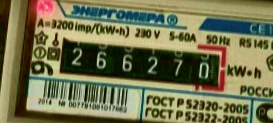0: (194, 58, 210, 79)
2: (144, 53, 159, 74), (68, 44, 82, 66)
6: (118, 50, 133, 71), (92, 47, 106, 69)
7: (170, 55, 182, 75)
screen: (45, 25, 232, 97)
